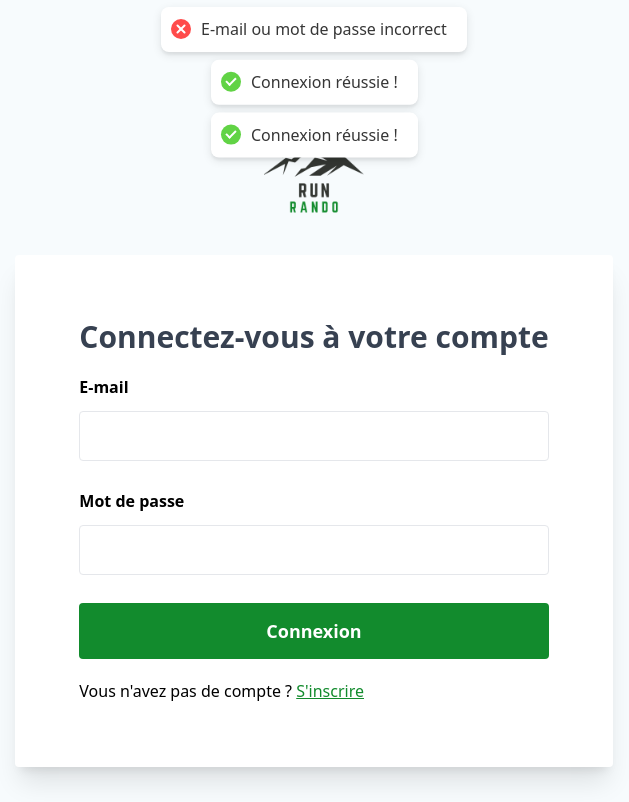
Test case: Login › should show an error modal with a generic error message if there are any other errors
This screenshot has width=629, height=802.
Type "john.doe@gmail.com" into the field labelled "E-mail".
click(314, 436); type("john.doe@gmail.com")  # box [79, 411, 549, 461]
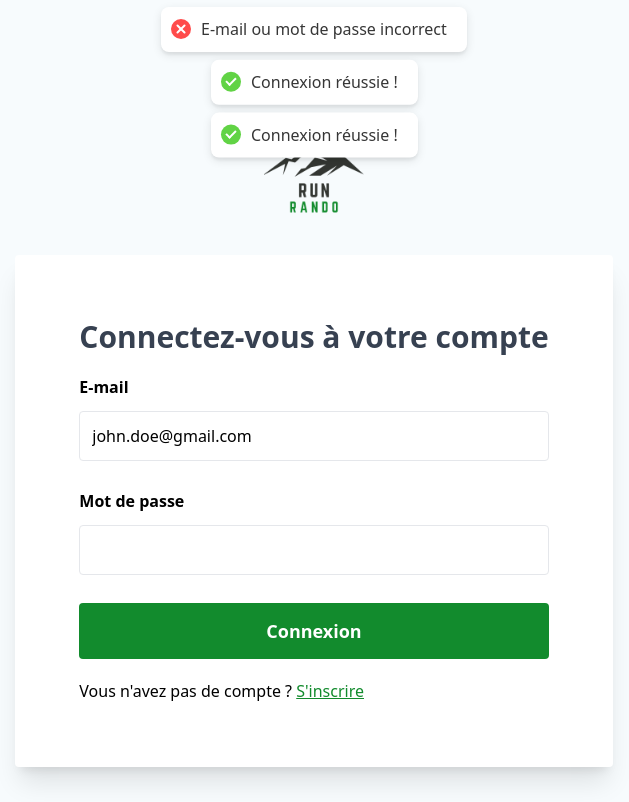
Type "123456" into the password field labelled "Mot de passe".
click(314, 550); type("123456")  # box [79, 525, 549, 575]
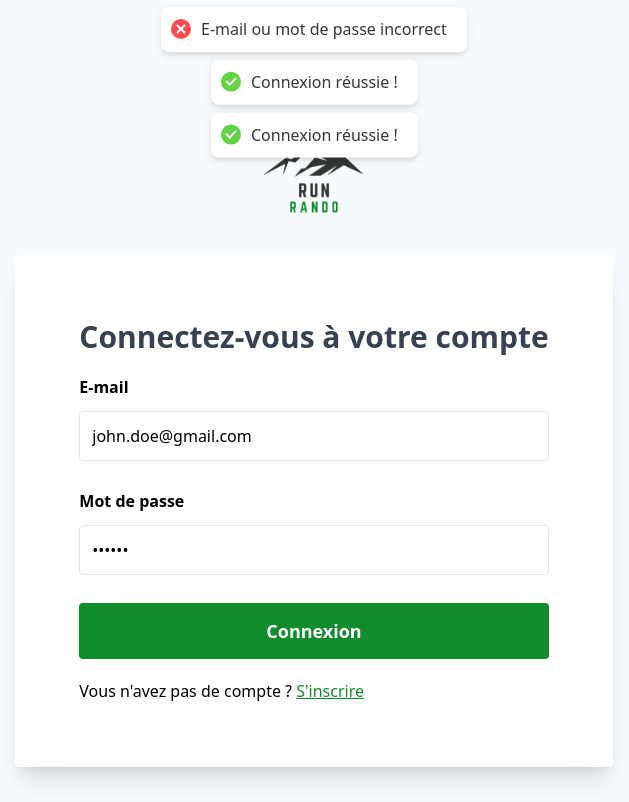
Click the button "Connexion".
click(314, 631)  # box [79, 603, 549, 659]
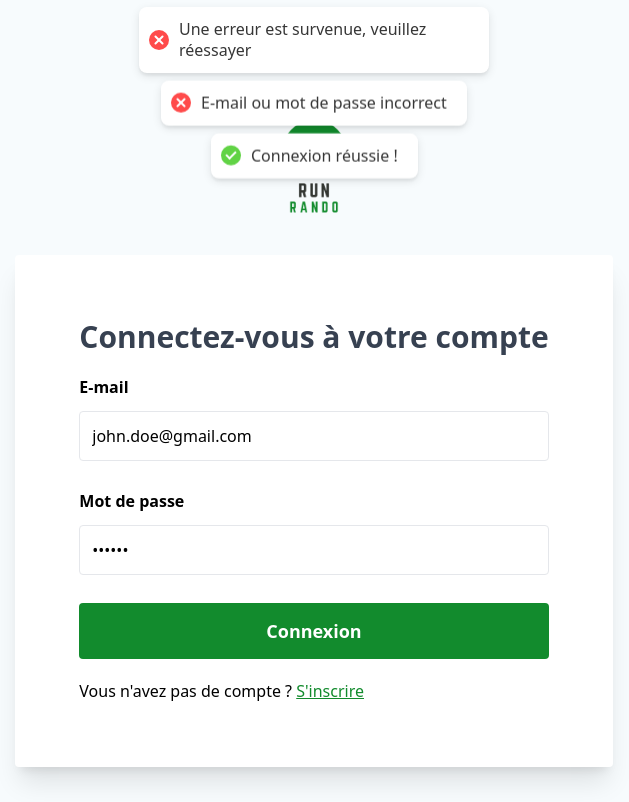
Check: the text "Une erreur est survenue, veuillez réessayer" is shown, box [179, 19, 469, 61]
